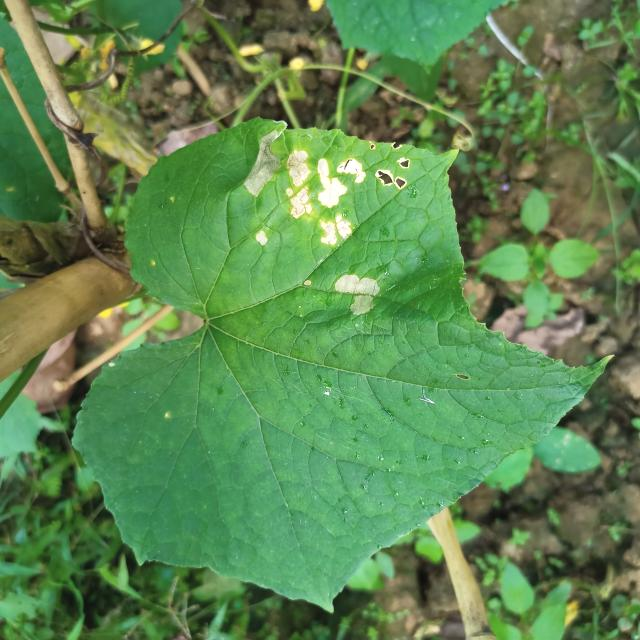disease_cucumber: (242, 121, 417, 256), (332, 274, 392, 320)
